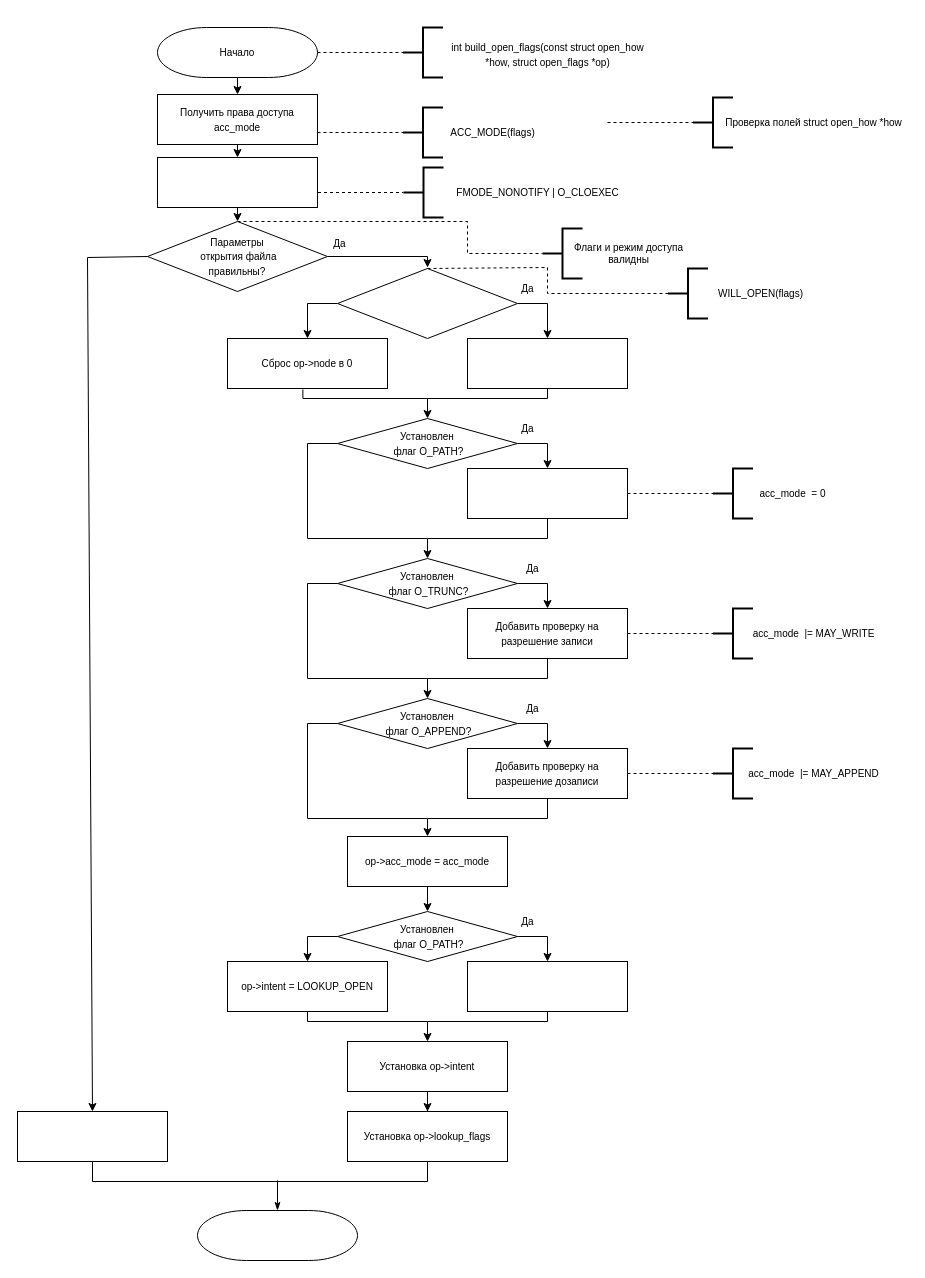
Image size: 925x1278. Some labels were removed from this diagram. The box of each missing label's shape, as (x1, y1, x2, y2) in pixels:
op->intent = 0: (466, 960, 628, 1012)
Возврат -EINVAL: (16, 1110, 168, 1162)
Запрет на создание/открытие /чтение/запись файла: (466, 468, 628, 518)
Конец: (196, 1210, 358, 1260)
сброс флагов, которые не должны выставляться в режиме пользователя: (156, 156, 318, 208)
Установка op->node: (466, 338, 628, 388)
Установлены флаги O_CREAT или __O_TMPFILE?: (336, 268, 518, 338)
